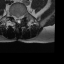CCS_normal: (17, 13, 20, 24)
LFS_normal: (22, 12, 24, 19)
LLS_normal: (19, 14, 22, 23)
RFS_normal: (11, 11, 14, 19)
RLS_normal: (14, 13, 17, 23)
